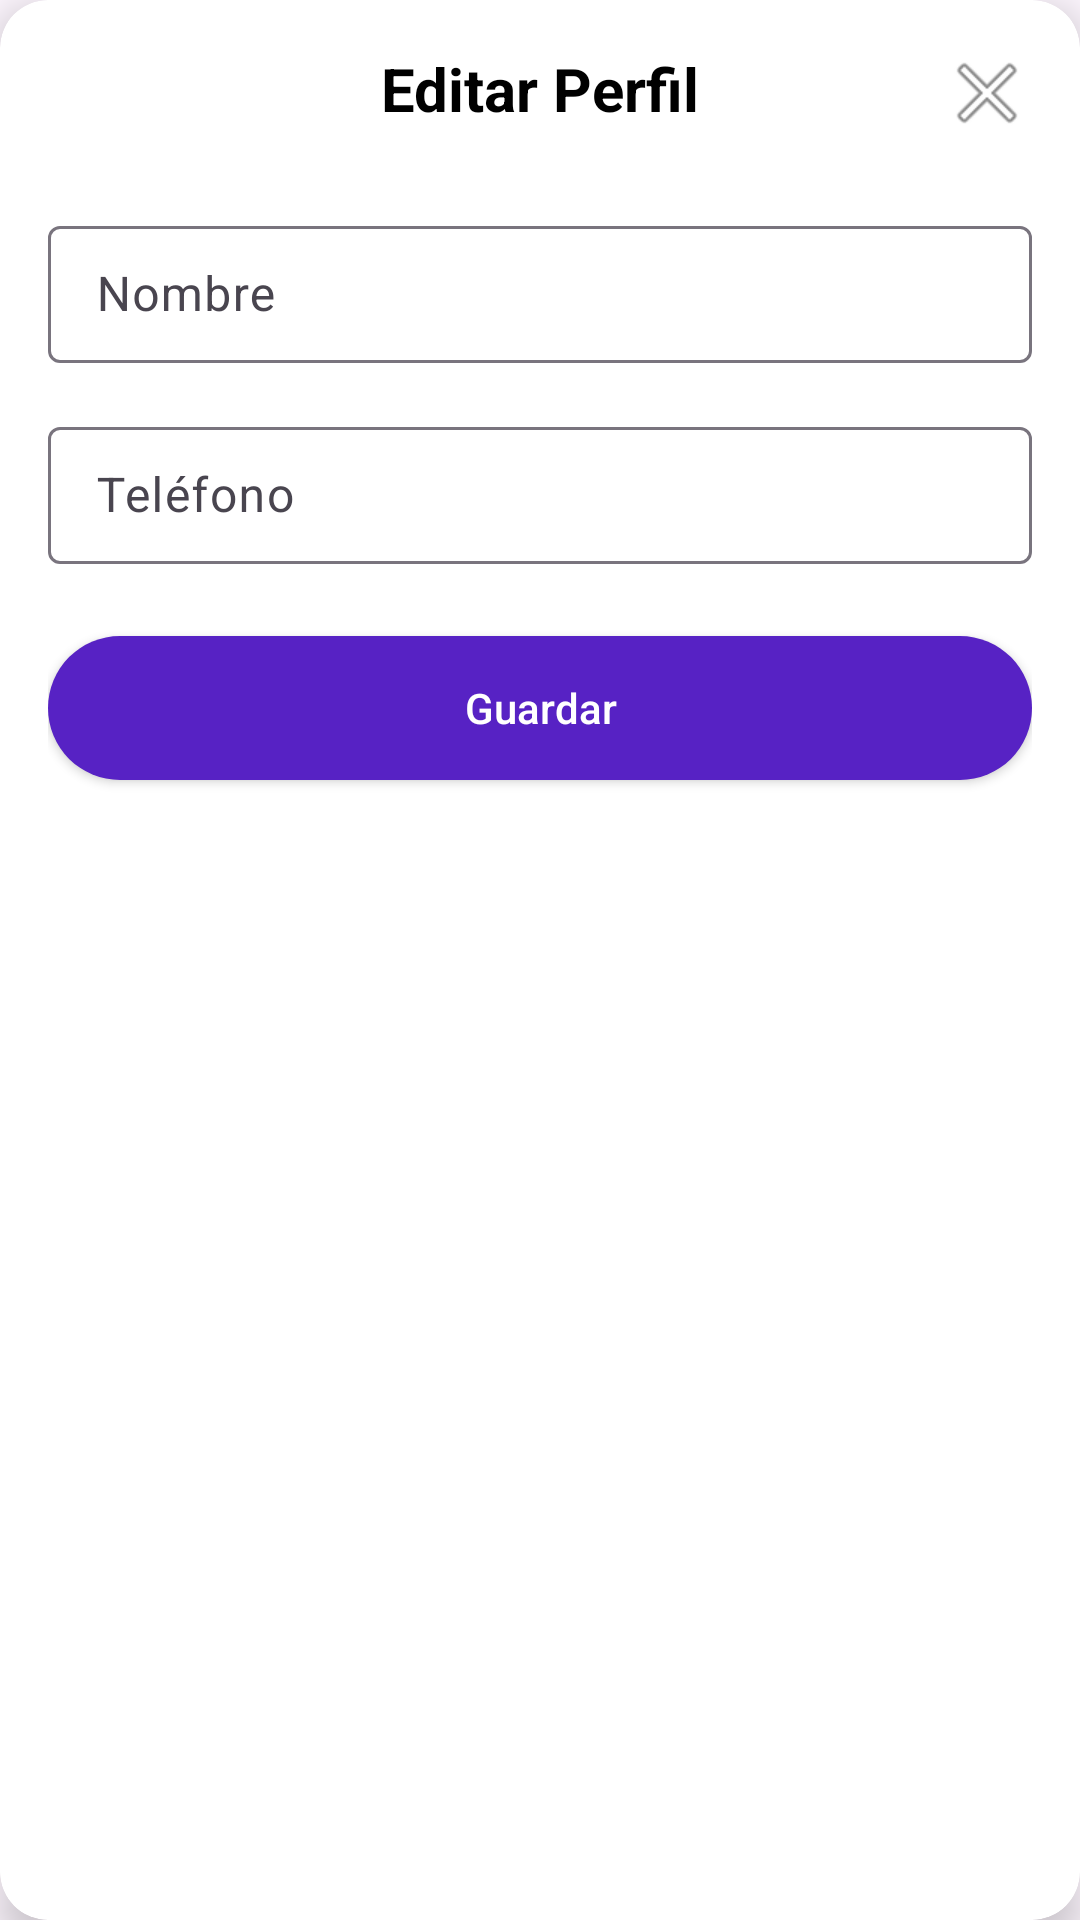

Locate icon controls on the screen. Image size 1080*1920, boxes as (x1, y1, x2, y2).
Cerrar: (957, 63, 1017, 123)
